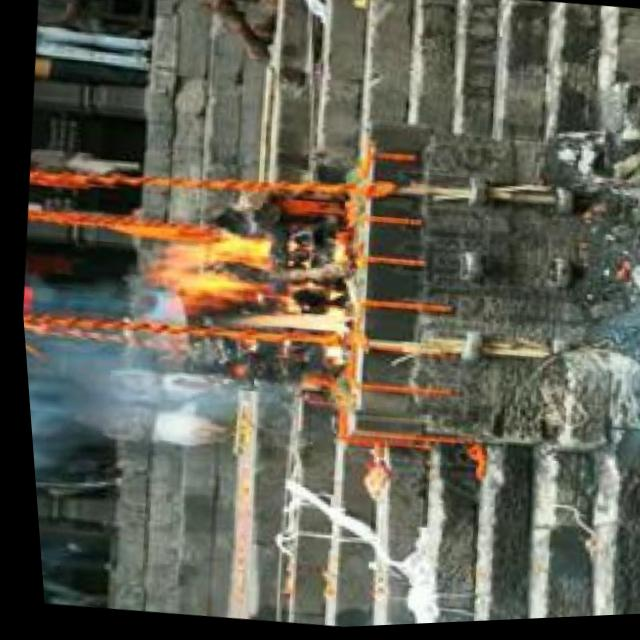Fire: (120, 221, 358, 348)
